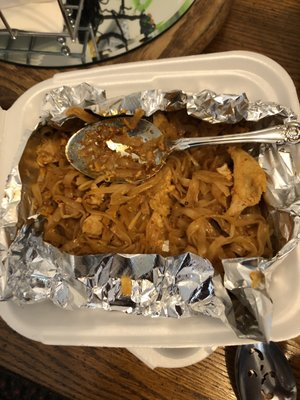sushi: (1, 0, 217, 69)
